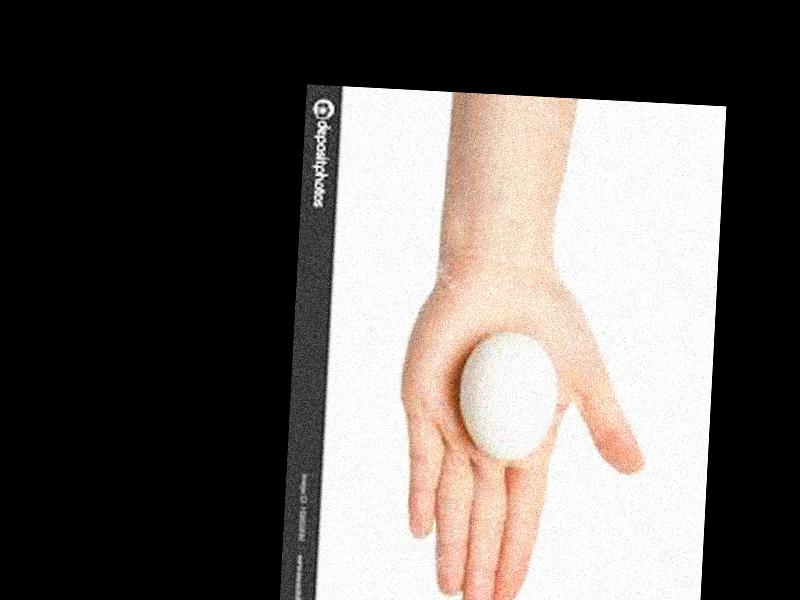Eggs: (460, 331, 557, 462)
